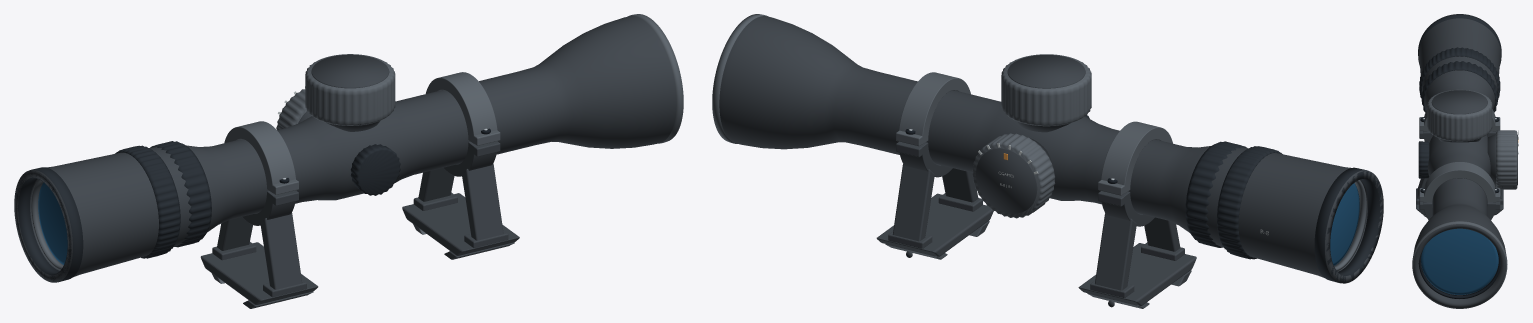
File: R8_A5_Rail.fbx
3 renders of one model, left to right at view 1: azimuth 30°, elevation 25°; view 2: azimuth 150°, elevation 25°; view 3: azimuth 270°, elevation 25°, orthographic. The views are drawn at different scales.
Parts seen in each view (by area): view 1: 01 SHELL | curved objective and long rear neck, 11 TOP CAP RIM, 05 REAR LIP | dark scallop, 25.0 LOCAL CROWN | independent seat, 25.1 LOCAL CROWN | independent seat, 09 REAR COLLAR B | fine grooves, 08 REAR COLLAR A | wide shallow grooves, 23.0.-1 SUPPORT ARM, 23.1.-1 SUPPORT ARM, 17.1 RING UPPER, 17.0 RING UPPER, 12 TOP CAP FACE (+9 smaller); view 2: 01 SHELL | curved objective and long rear neck, 11 TOP CAP RIM, 05 REAR LIP | dark scallop, 15 RIGHT CAP FACE, 25.1 LOCAL CROWN | independent seat, 25.0 LOCAL CROWN | independent seat, 09 REAR COLLAR B | fine grooves, 08 REAR COLLAR A | wide shallow grooves, 23.1.1 SUPPORT ARM, 23.0.1 SUPPORT ARM, 14 RIGHT CAP RIM, 17.1 RING UPPER (+9 smaller); view 3: 01 SHELL | curved objective and long rear neck, 04 FRONT PANE | deep blue coat, 11 TOP CAP RIM, 17.0 RING UPPER, 14 RIGHT CAP RIM, 12 TOP CAP FACE, 09 REAR COLLAR B | fine grooves, 08 REAR COLLAR A | wide shallow grooves, 02 FRONT LIP | fine rim, 03 FRONT INNER | matte rim, 05 REAR LIP | dark scallop, 16 LEFT SMALL CAP (+7 smaller).
Boxes of the visible parts, box(x1,y1,x2,y2) form: 01 SHELL | curved objective and long rear neck: box(14, 16, 676, 282); 11 TOP CAP RIM: box(305, 54, 395, 125); 05 REAR LIP | dark scallop: box(15, 167, 83, 282); 25.0 LOCAL CROWN | independent seat: box(402, 193, 519, 255); 25.1 LOCAL CROWN | independent seat: box(200, 242, 318, 304); 09 REAR COLLAR B | fine grooves: box(115, 145, 180, 258); 08 REAR COLLAR A | wide shallow grooves: box(150, 141, 211, 247); 23.0.-1 SUPPORT ARM: box(462, 163, 503, 240); 23.1.-1 SUPPORT ARM: box(260, 213, 302, 289); 17.1 RING UPPER: box(224, 121, 295, 193); 17.0 RING UPPER: box(425, 72, 497, 144); 12 TOP CAP FACE: box(311, 54, 389, 88); 01 SHELL | curved objective and long rear neck: box(719, 16, 1383, 283); 11 TOP CAP RIM: box(1001, 54, 1091, 126); 05 REAR LIP | dark scallop: box(1314, 167, 1383, 283); 15 RIGHT CAP FACE: box(976, 148, 1037, 213); 25.1 LOCAL CROWN | independent seat: box(1078, 243, 1196, 305); 25.0 LOCAL CROWN | independent seat: box(876, 193, 993, 256); 09 REAR COLLAR B | fine grooves: box(1217, 146, 1282, 259); 08 REAR COLLAR A | wide shallow grooves: box(1185, 141, 1247, 247); 23.1.1 SUPPORT ARM: box(1095, 213, 1136, 290); 23.0.1 SUPPORT ARM: box(892, 164, 934, 241); 14 RIGHT CAP RIM: box(972, 133, 1055, 218); 17.1 RING UPPER: box(1101, 121, 1172, 193); 01 SHELL | curved objective and long rear neck: box(1413, 14, 1506, 307); 04 FRONT PANE | deep blue coat: box(1421, 228, 1498, 294); 11 TOP CAP RIM: box(1427, 89, 1492, 141); 17.0 RING UPPER: box(1423, 162, 1495, 202); 14 RIGHT CAP RIM: box(1496, 130, 1517, 189); 12 TOP CAP FACE: box(1431, 90, 1487, 114); 09 REAR COLLAR B | fine grooves: box(1419, 47, 1500, 101); 08 REAR COLLAR A | wide shallow grooves: box(1422, 61, 1497, 112); 02 FRONT LIP | fine rim: box(1412, 221, 1507, 308); 03 FRONT INNER | matte rim: box(1418, 248, 1500, 298); 05 REAR LIP | dark scallop: box(1418, 14, 1501, 65); 16 LEFT SMALL CAP: box(1418, 141, 1429, 178).
Size of the model in its own units: 38.72 by 11.84 by 8.13.
